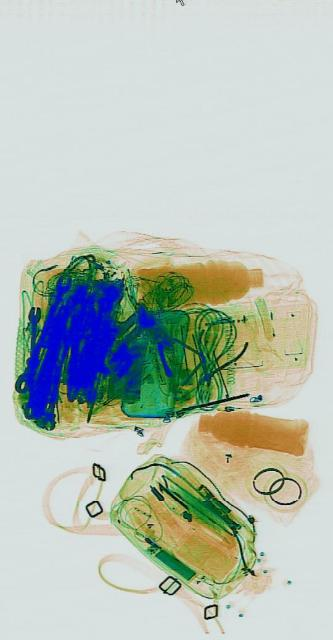Pliers: (187, 304, 247, 406)
Wrench: (12, 265, 71, 397), (24, 306, 40, 418)
